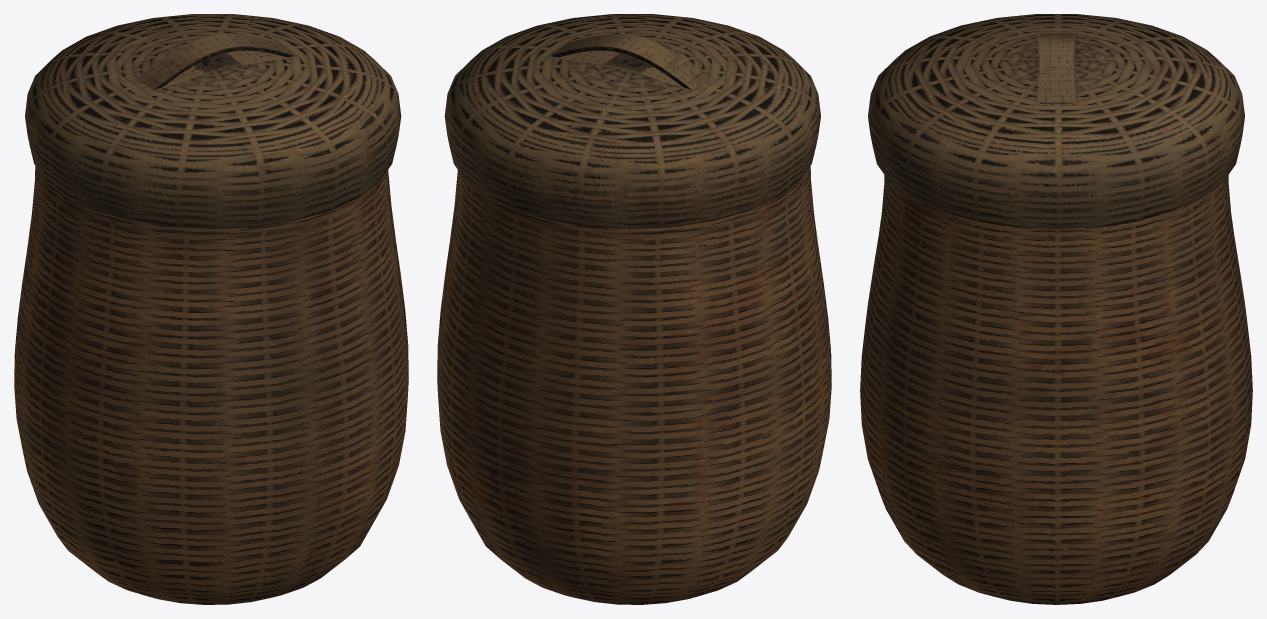
The model's file is B49_3CestoPlaited.FBX.
3 renders of one model, left to right at view 1: azimuth 30°, elevation 25°; view 2: azimuth 150°, elevation 25°; view 3: azimuth 270°, elevation 25°, orthographic.
Parts seen in each view (by area): view 1: 3.cesto plaited; view 2: 3.cesto plaited; view 3: 3.cesto plaited.
Boxes of the visible parts, x1=… form: 3.cesto plaited: x1=14, y1=14, x2=408, y2=604; 3.cesto plaited: x1=437, y1=14, x2=831, y2=604; 3.cesto plaited: x1=860, y1=14, x2=1252, y2=604.
Size of the model in its own units: 32.11 by 46.13 by 31.88.
1 material, 1 textured.
